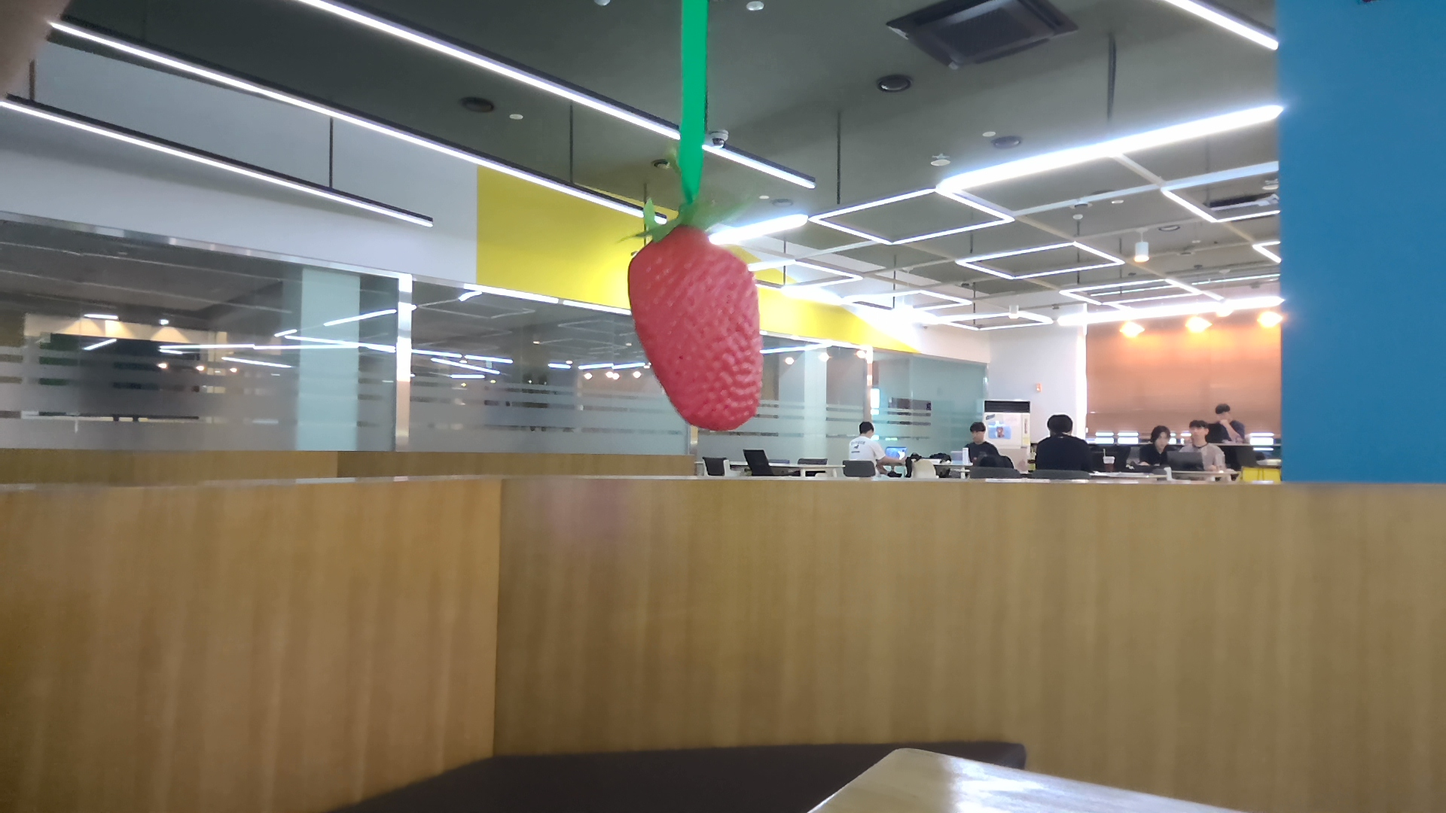strawberry: (609, 212, 783, 436)
